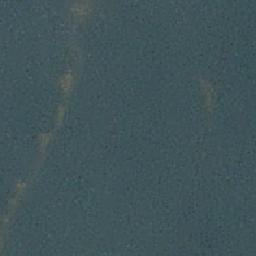debris: (53, 105, 70, 128), (58, 71, 73, 92), (205, 92, 217, 114), (38, 134, 51, 154), (14, 180, 24, 198), (72, 6, 82, 16)
